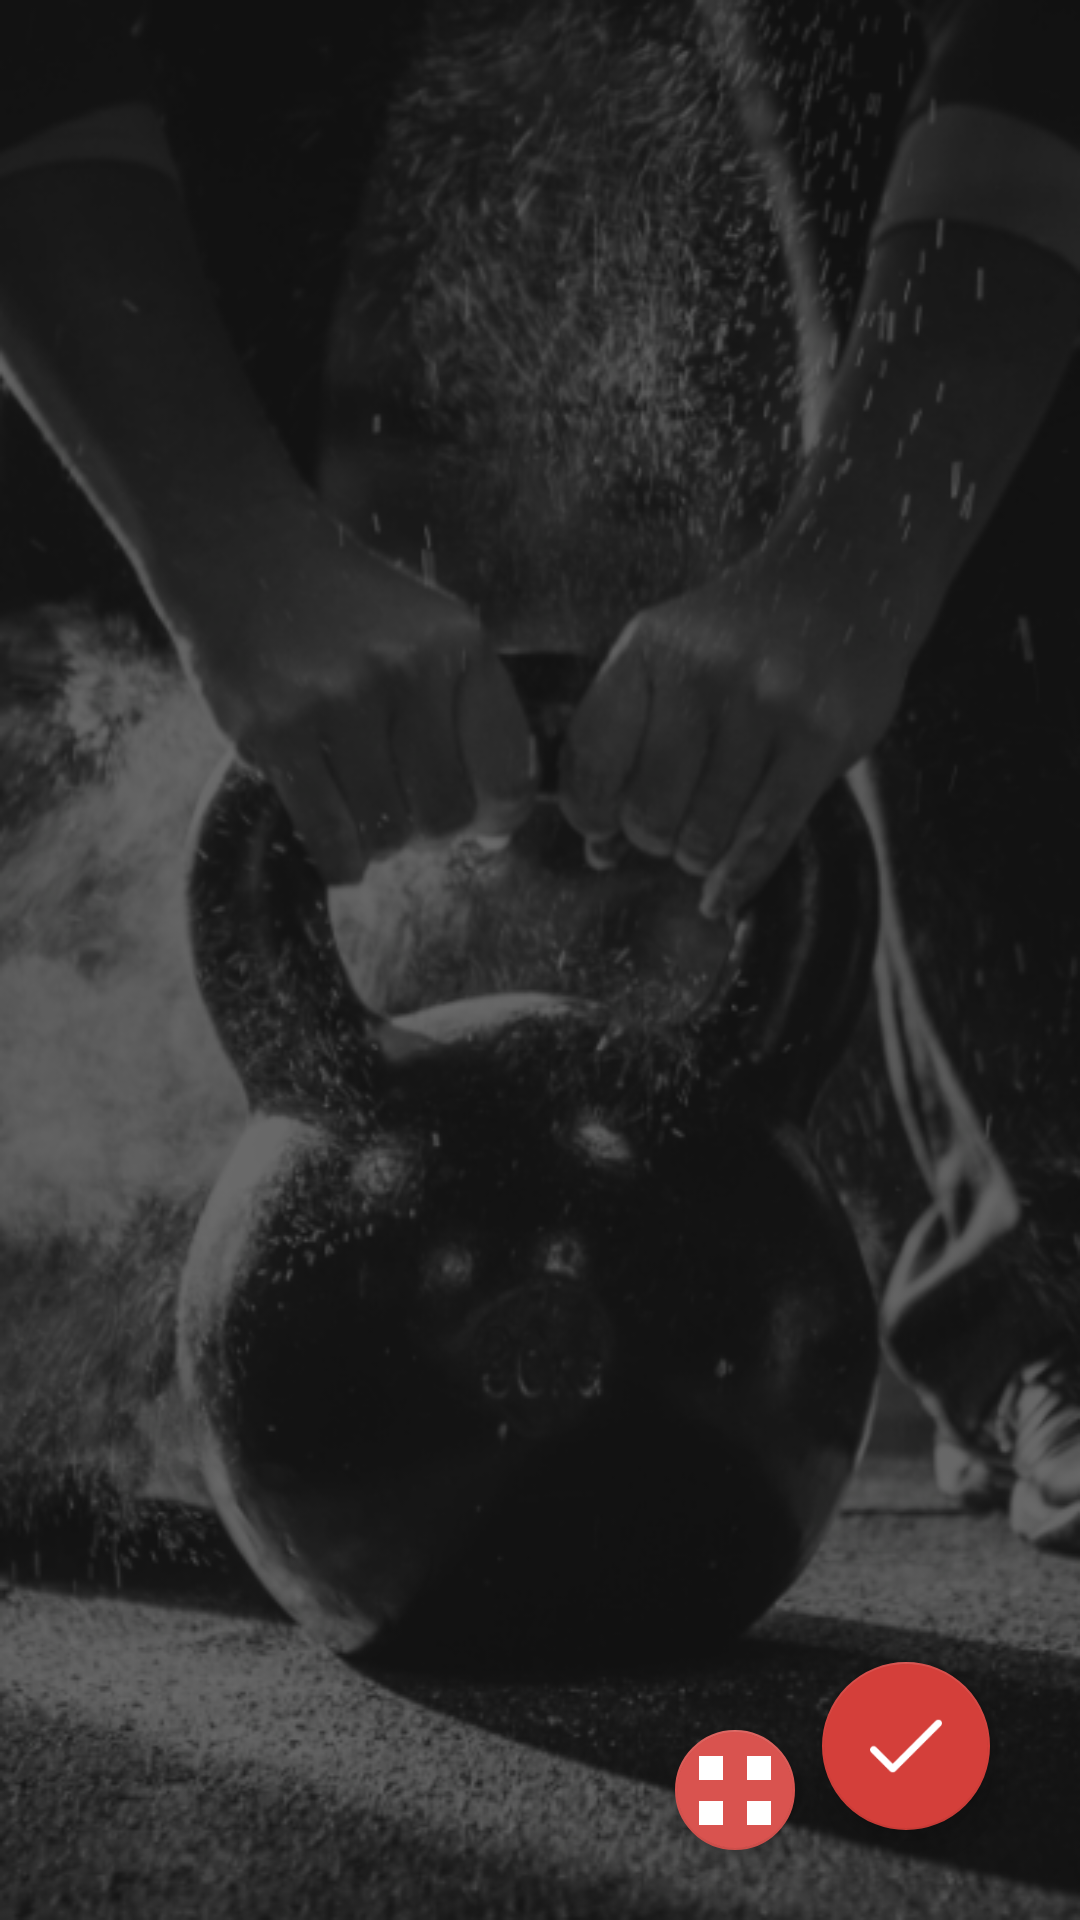

Icons on this 1080 x 1920 Android screen, each with its box as (x1, y1, x2, y2):
tick: (822, 1662, 990, 1830)
